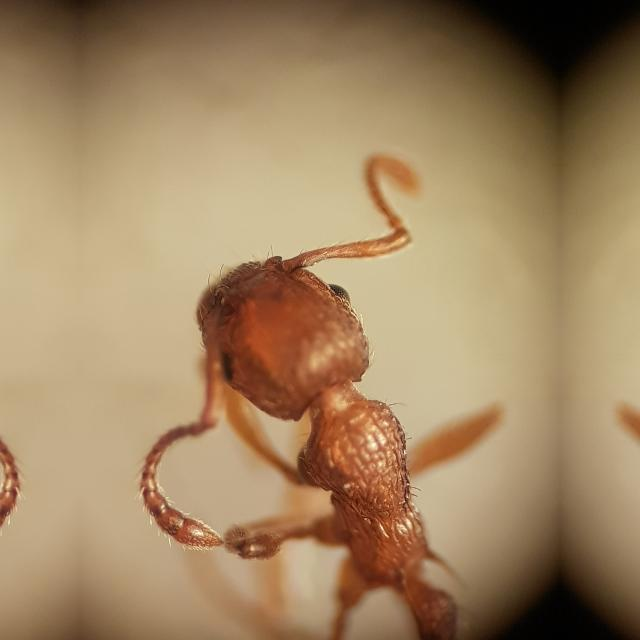Myrmica: (146, 135, 504, 640)
